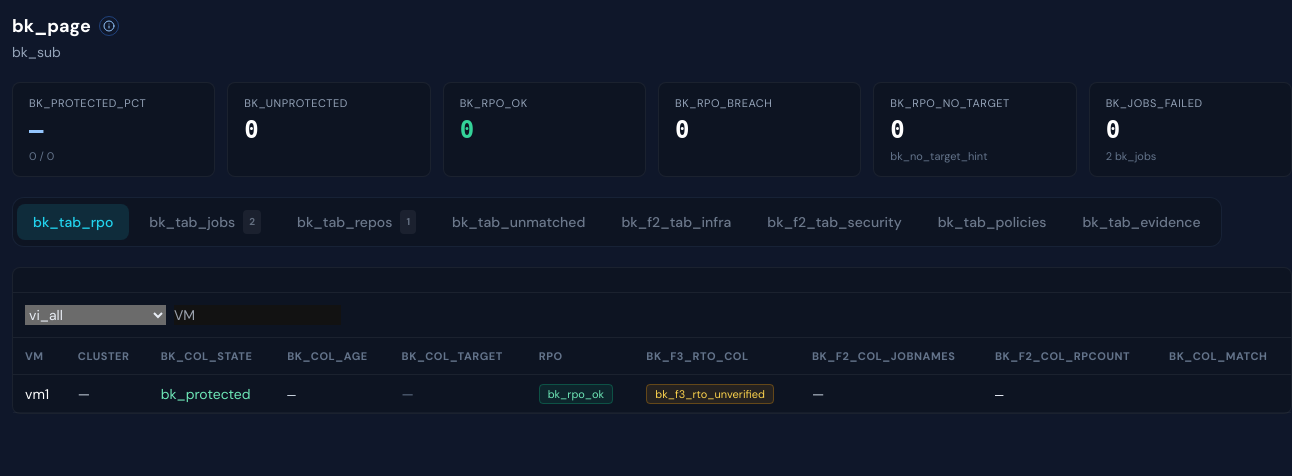
Scenario: F.2 Yedek sekmeleri › F.3: RTO "doğrulanmadı" rozeti ve not; tahmin değeri gösterilmez
The width and height of the screenshot is (1292, 476).
Expected: the text with test id "bk-rto-badge" reads "bk_f3_rto_unverified", [655,387,765,401]
Click the button "bk_tab_policies": click(992, 222) [922,204,1062,240]
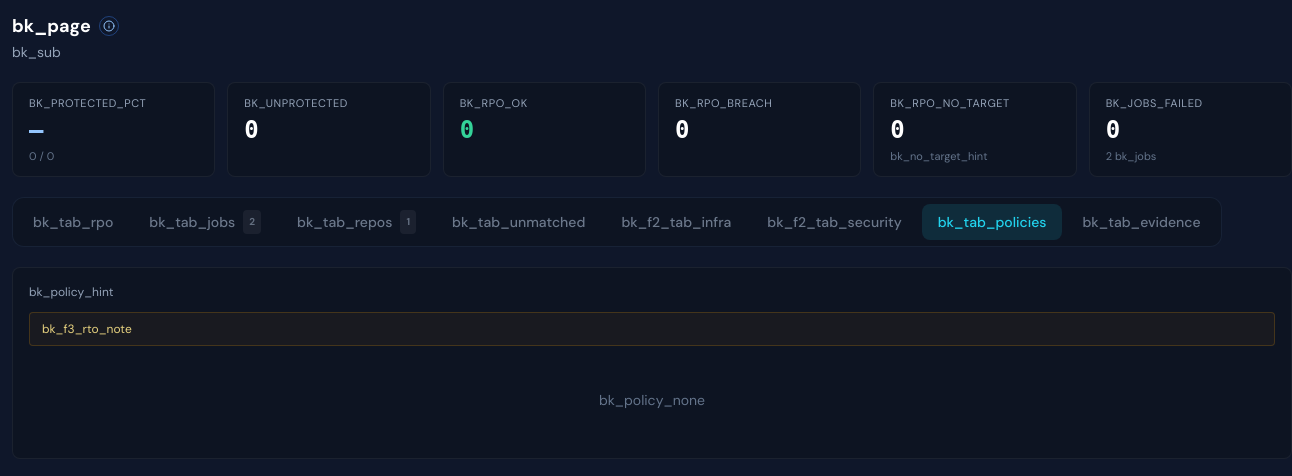
Now the text with test id "bk-rto-note" reads "bk_f3_rto_note", box [42,321,132,337]
